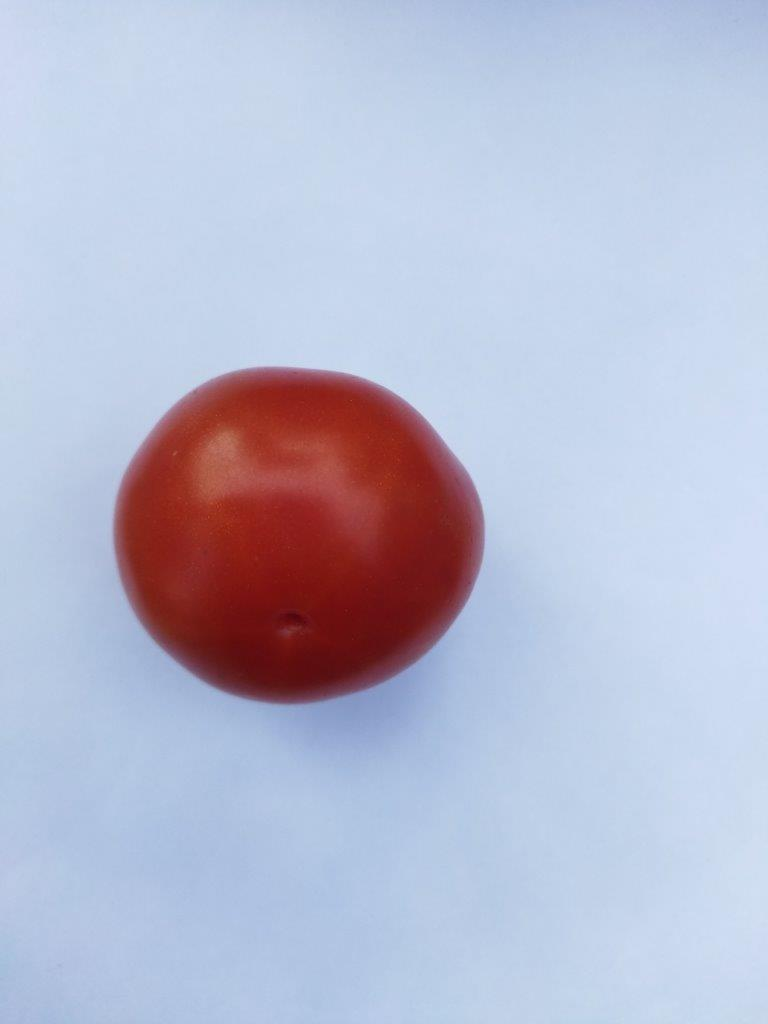tomato: (115, 369, 483, 702)
